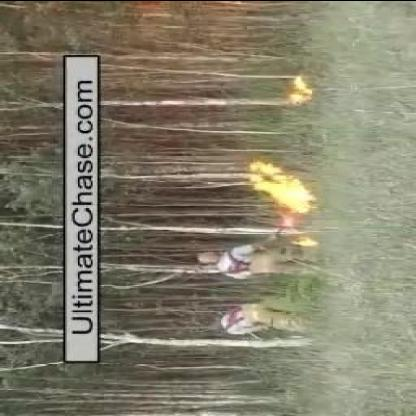foggia-v2-map80-epoch100 - v1 4323: (247, 157, 317, 212), (290, 76, 314, 104)
